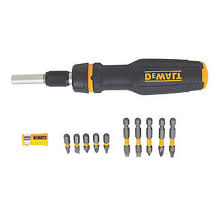Screwdriver: (8, 55, 217, 103)
